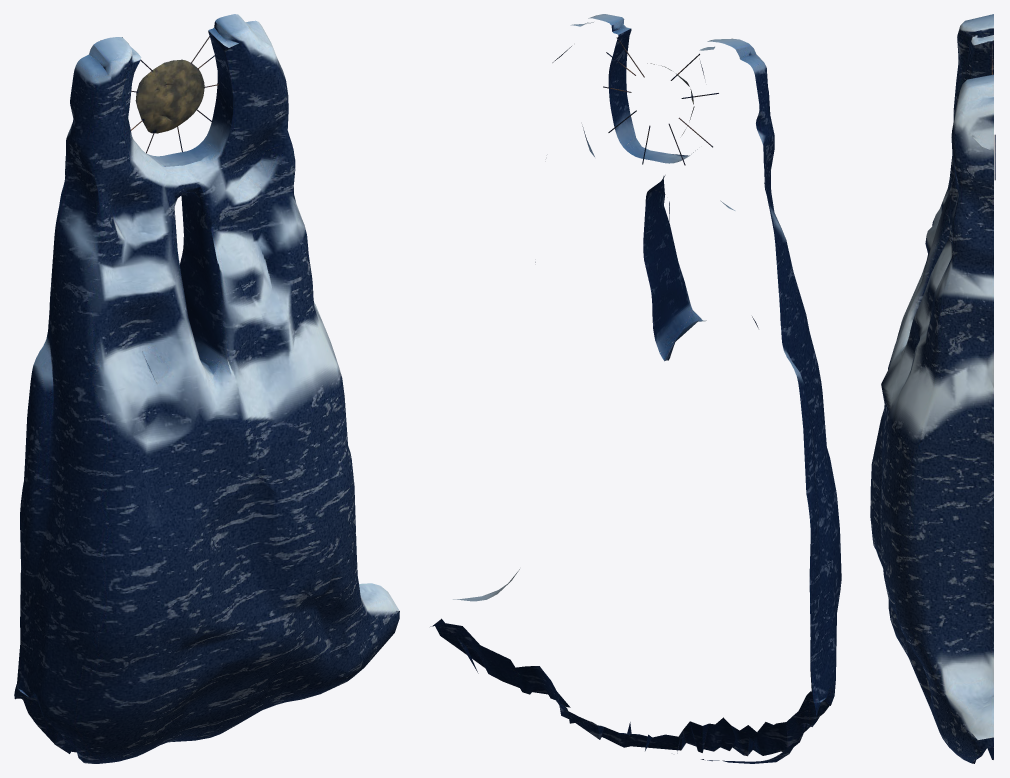
The model's file is gong.gltf.
3 views of the same model, side by side, from view 1: azimuth 30°, elevation 25°; view 2: azimuth 150°, elevation 25°; view 3: azimuth 270°, elevation 25° (orthographic). The views are drawn at different scales.
Visible parts, largest first — view 1: mountaingong; view 2: mountaingong; view 3: mountaingong.
Part boxes in pixels (x1,y1,x2,y2): mountaingong: (14, 14, 399, 763); mountaingong: (430, 14, 841, 763); mountaingong: (870, 14, 995, 763).
Size of the model in its own units: 253 by 456 by 77.12.
1 material, 1 textured.
